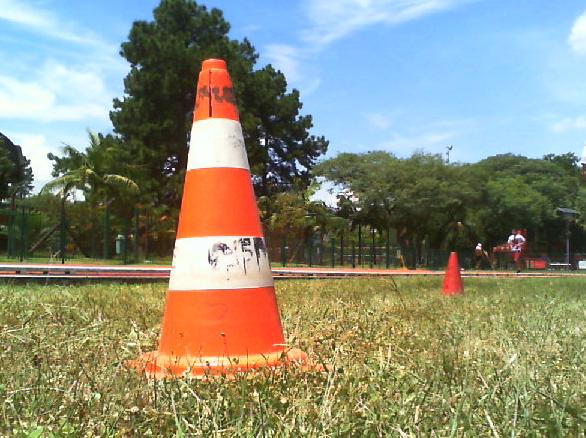0 cone: (123, 58, 323, 383), (441, 252, 464, 297)
